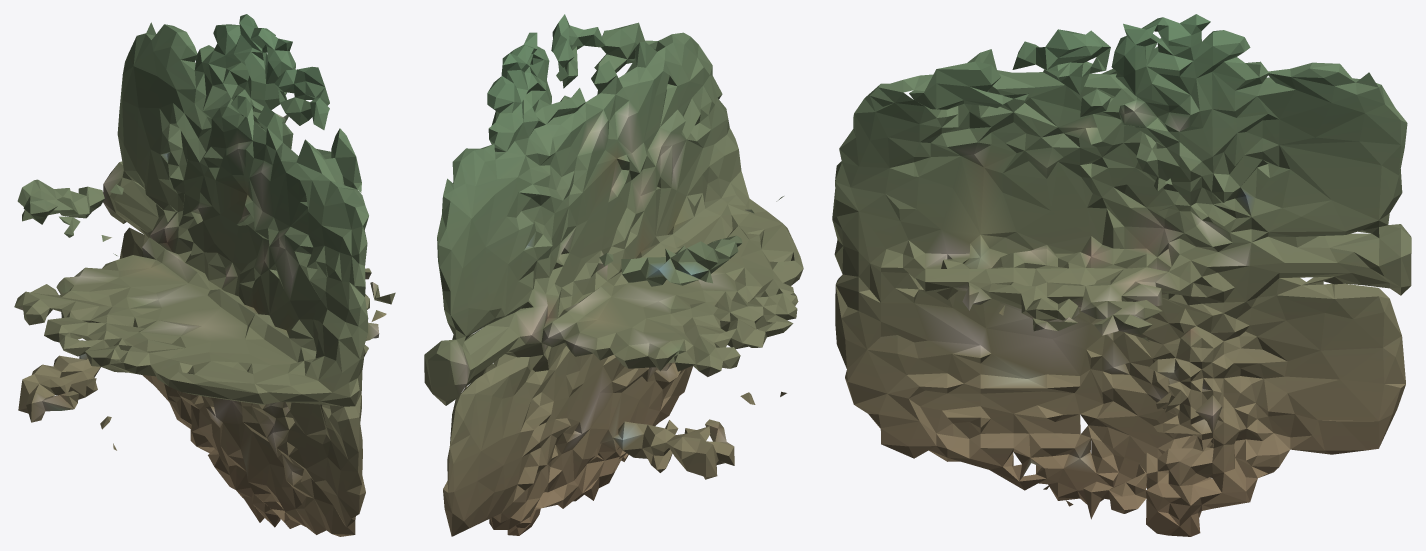
The model's file is tree_branched.glb.
3 renders of one model, left to right at view 1: azimuth 30°, elevation 25°; view 2: azimuth 150°, elevation 25°; view 3: azimuth 270°, elevation 25°, orthographic. The views are drawn at different scales.
Parts seen in each view (by area): view 1: world; view 2: world; view 3: world.
Boxes of the visible parts, x1,y1,x2,y2 form: world: (14,14,395,536); world: (424,14,803,536); world: (832,14,1411,536).
Size of the model in its own units: 6.35 by 9 by 9.04.
